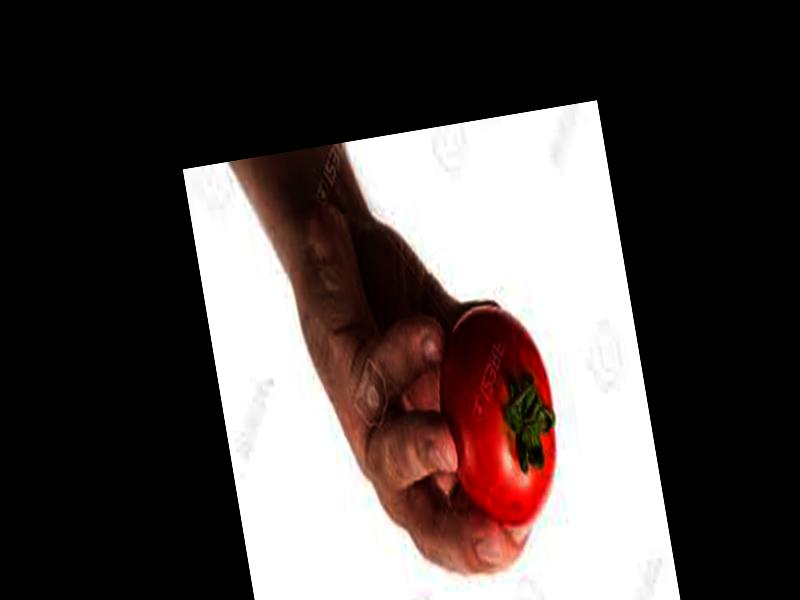Tomato: (427, 299, 572, 534)
